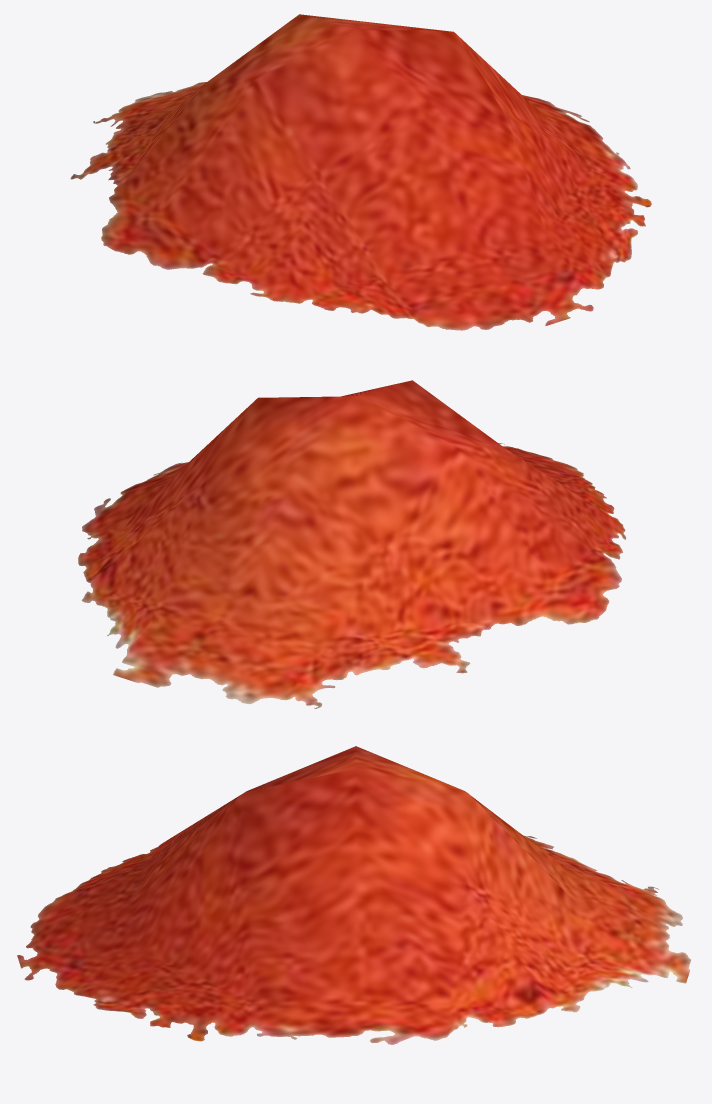
The model's file is Methyl orange.fbx.
The picture shows the model from 3 angles, top to bottom: view 1: azimuth 30°, elevation 25°; view 2: azimuth 150°, elevation 25°; view 3: azimuth 270°, elevation 25°; orthographic projection.
Visible parts, largest first — view 1: Methyl_orange; view 2: Methyl_orange; view 3: Methyl_orange.
Part boxes in pixels (x1,y1,x2,y2): Methyl_orange: [70, 14, 651, 330]; Methyl_orange: [78, 380, 626, 708]; Methyl_orange: [17, 746, 690, 1044].
Size of the model in its own units: 21.65 by 6.18 by 21.65.
1 material, 1 textured.
